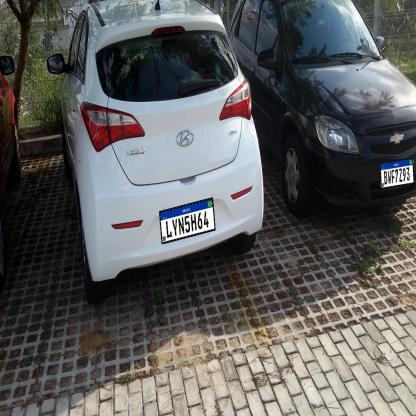PlacaM: (159, 198, 216, 244), (380, 158, 414, 189)
